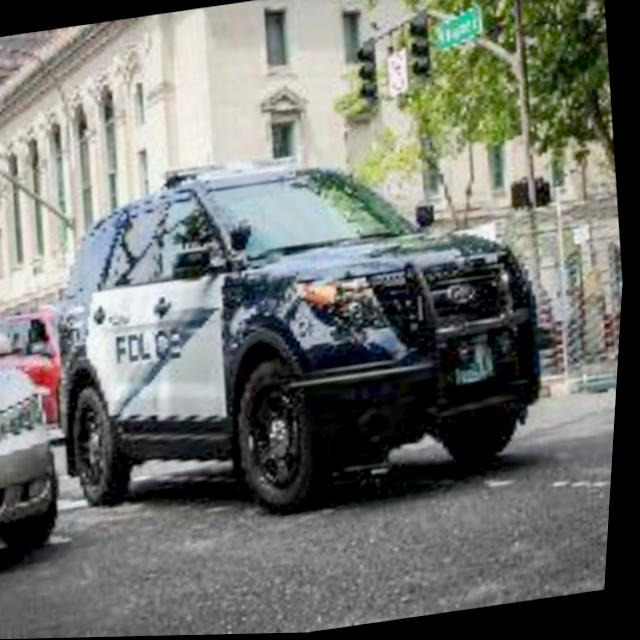emergency: (21, 103, 577, 529)
